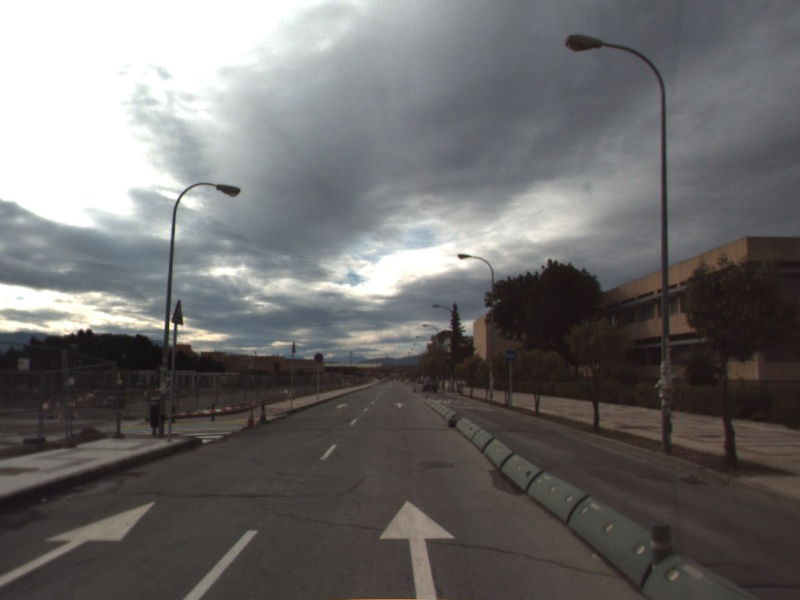STRAIGHT: (1, 499, 160, 587), (377, 497, 458, 600), (334, 402, 350, 411), (392, 401, 407, 410)
